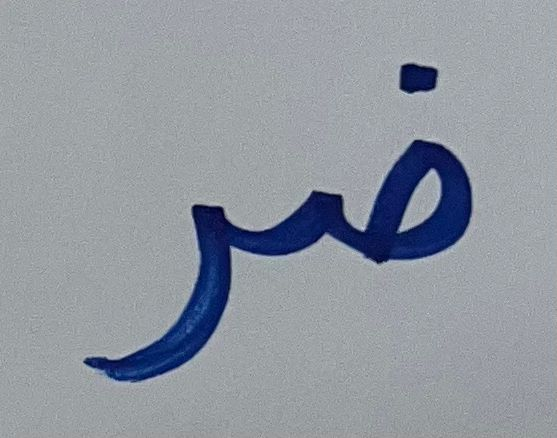dad: (278, 39, 498, 294)
reh: (64, 167, 263, 399)
